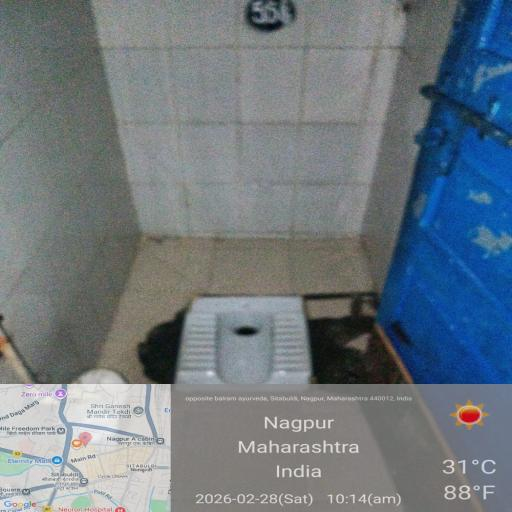clean_floor: (14, 12, 505, 254)
damage: (154, 254, 418, 451)
